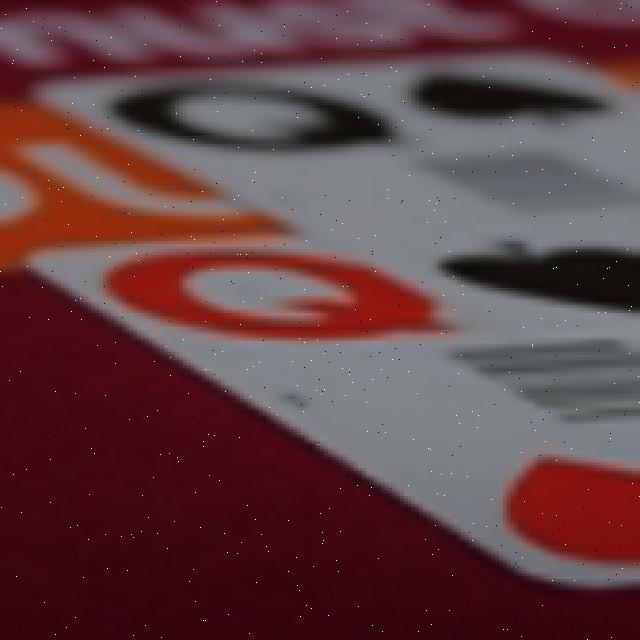Card-Q: (28, 236, 639, 587), (33, 46, 639, 337)
